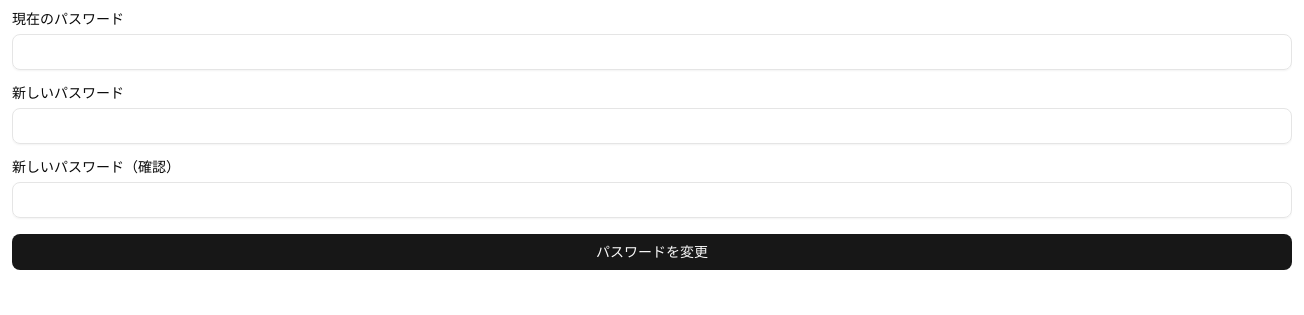
it: PasswordForm › 新しいパスワードに英字が含まれない場合バリデーションエラーが表示される
This screenshot has width=1304, height=315.
Type "current123" into the password field labelled "現在のパスワード".
click(652, 52); type("current123")  # box [12,34,1292,70]
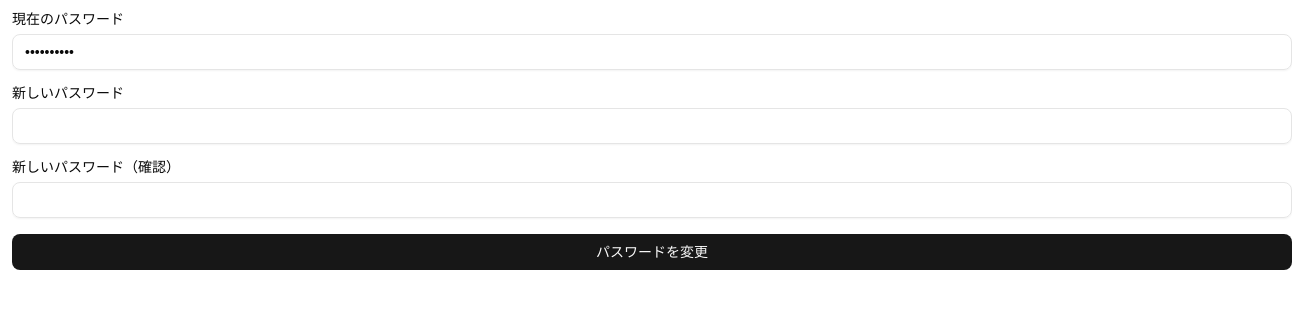
Type "12345678" into the password field labelled "新しいパスワード".
click(652, 126); type("12345678")  # box [12,108,1292,144]
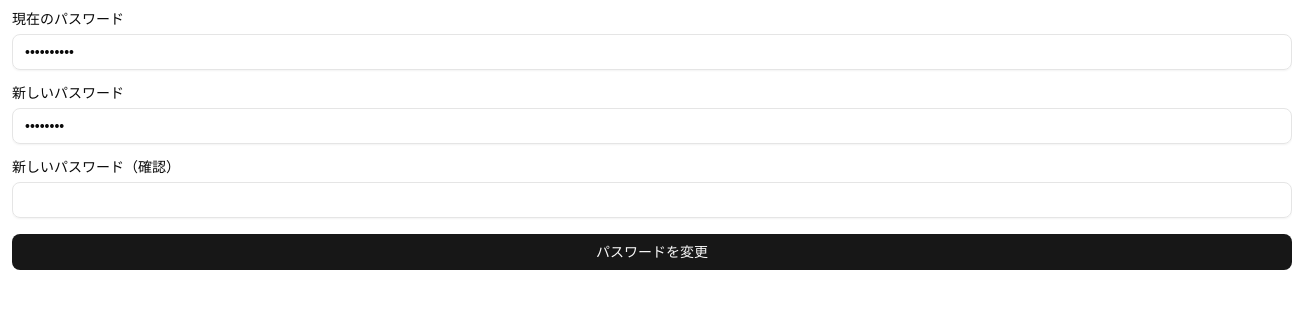
Type "12345678" into the password field labelled "新しいパスワード（確認）".
click(652, 200); type("12345678")  # box [12,182,1292,218]
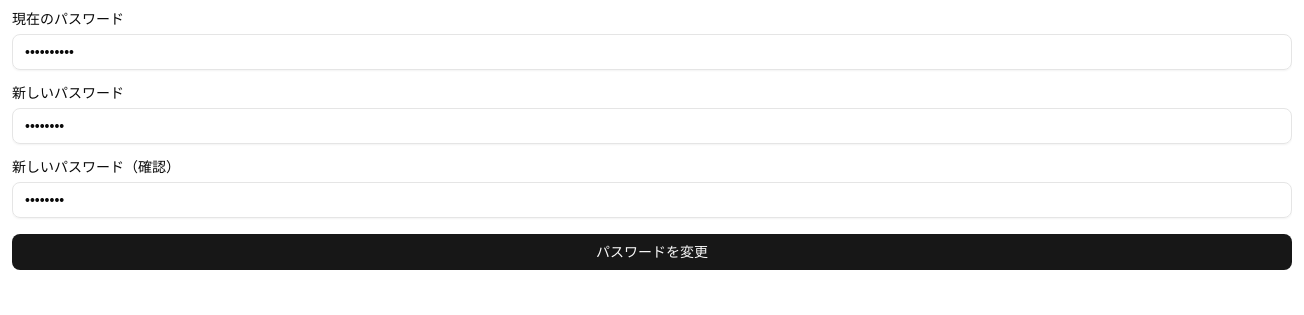
Click the button "パスワードを変更".
click(652, 252)  # box [12,234,1292,270]
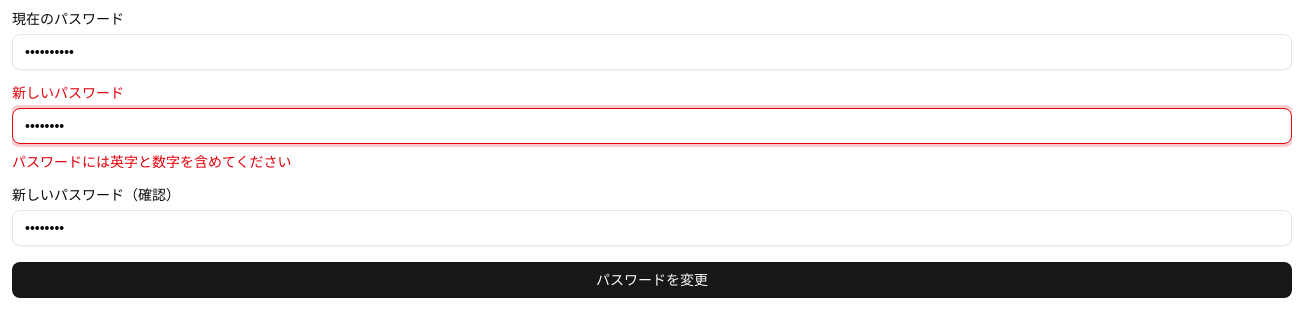
expect the text "パスワードには英字と数字を含めてください" is shown: met, box [12,154,292,170]
